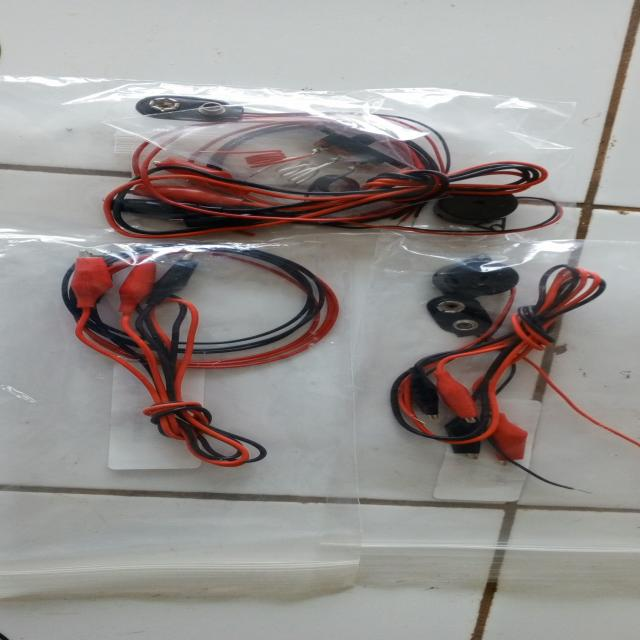BNC Cable: (68, 83, 624, 497)
